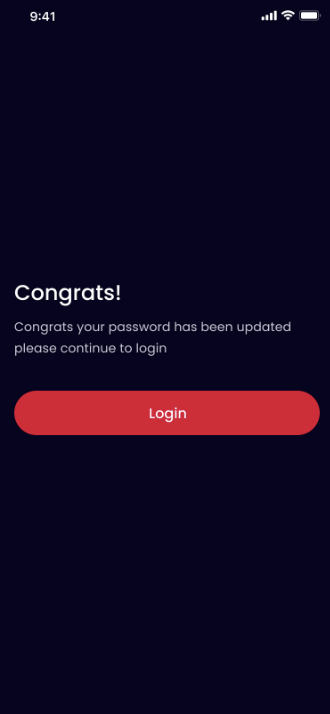Button: (13, 389, 321, 437)
